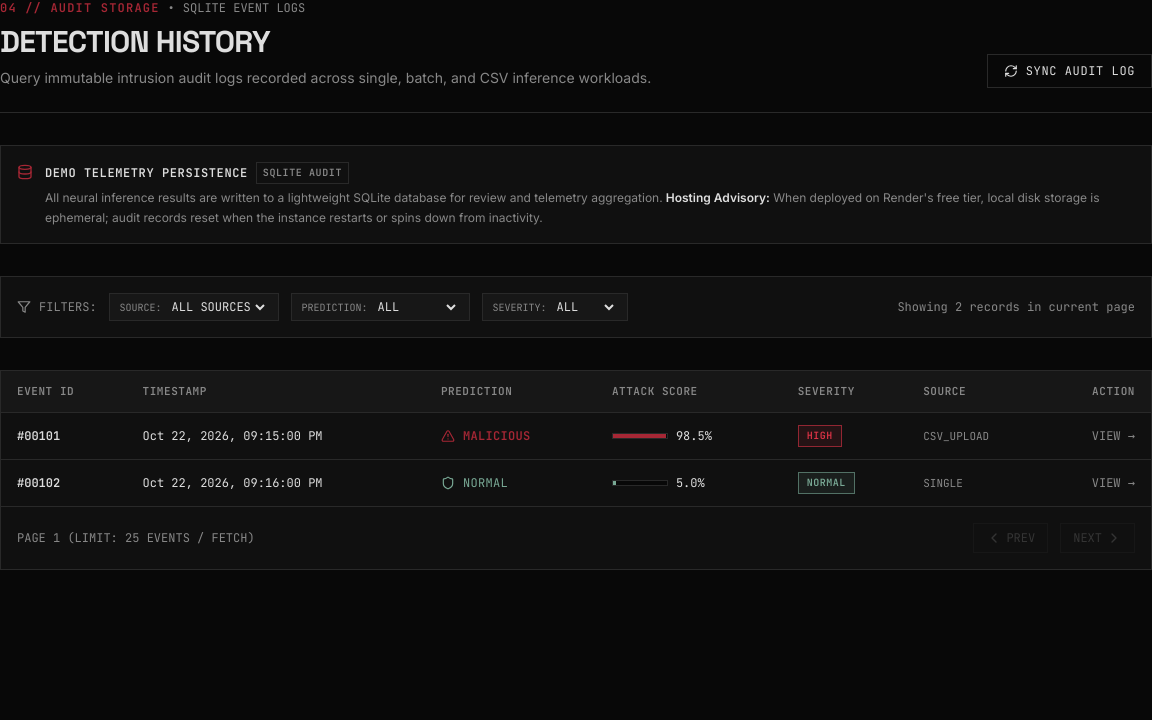
it: Detection History Page › opens detailed inspection modal when an event is clicked
Click the text "#00101" at (42, 436), box left=1, top=412, right=126, bottom=459
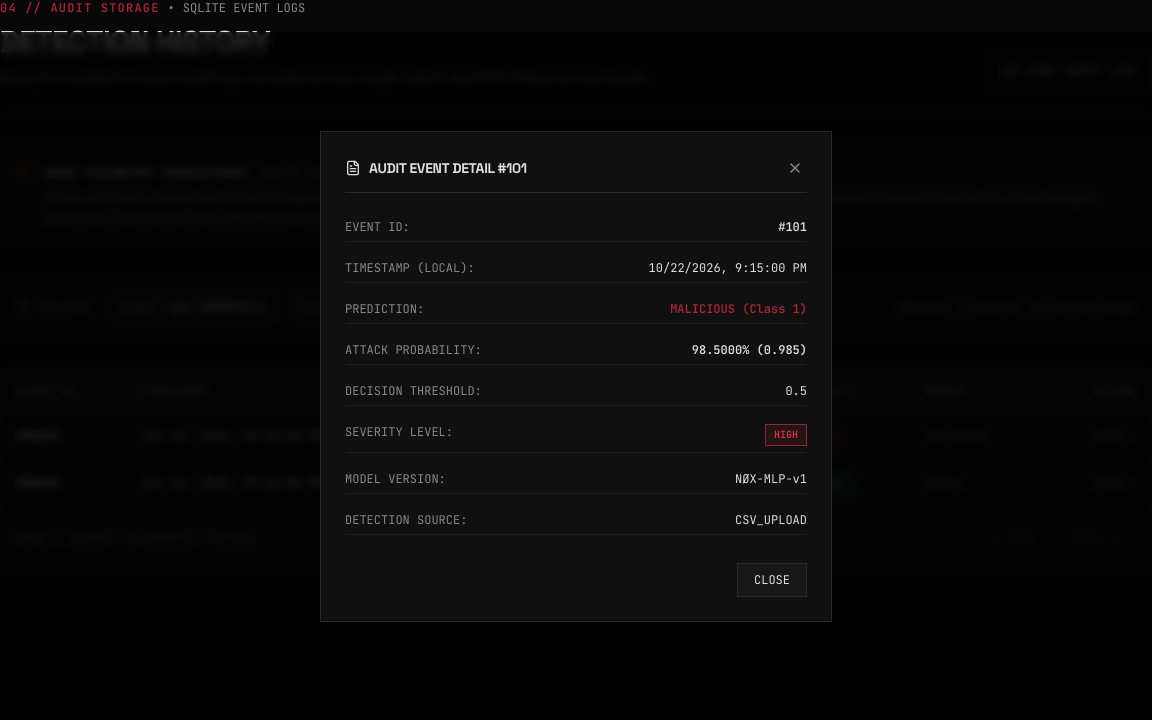
Check: the heading "AUDIT EVENT DETAIL #101" is shown, box left=369, top=158, right=527, bottom=178
Check: the text "DECISION THRESHOLD:" is shown, box left=345, top=382, right=482, bottom=398
Check: the text "NØX-MLP-v1" is shown, box left=735, top=470, right=807, bottom=486
